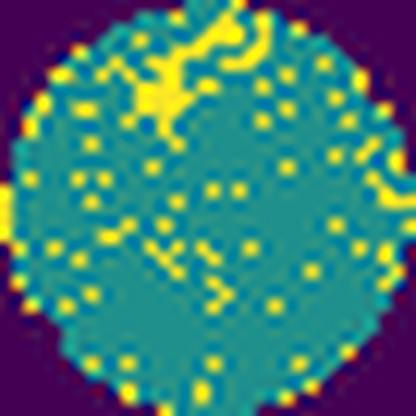Edge-Loc: (116, 11, 244, 152), (222, 15, 275, 70)
